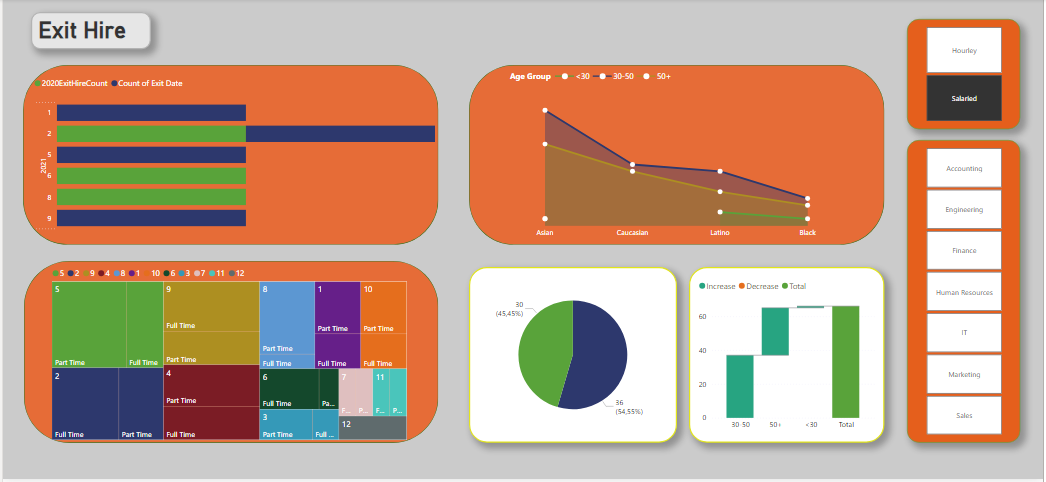

The page's visual inventory and layout, read from the dashboard file:
{"tool":"powerbi","page":{"name":"Exit Hire","canvas":[1735,800],"ordinal":2},"visuals":[{"type":"shape","box":[32.6,109.3,693,300],"z":0},{"type":"barChart","fields":{"Category":["Calendar.Year","Calendar.Month"],"Y":["TBL_Employees.2020ExitHireCount","CountNonNull(TBL_Employees.Exit Date)"]},"box":[46.5,120.9,679.1,279.1],"z":1000},{"type":"shape","box":[35.1,436.8,691.2,303.5],"z":2000},{"type":"textbox","title":"Exit Hire","box":[46.6,21.3,199.9,62.1],"z":3000},{"type":"shape","box":[776.7,109.3,693,300],"z":4000},{"type":"treemap","fields":{"Group":["Calendar.Month"],"Details":["TBL_Employees.Work Time"],"Values":["CountNonNull(TBL_Employees.Exit Date)"]},"box":[77.2,436.8,601.8,303.5],"z":5000},{"type":"waterfallChart","fields":{"Category":["TBL_Employees.Age Group"],"Y":["TBL_Employees.2020ExitHireCount"]},"box":[1144.2,446.5,325.6,293],"z":6000},{"type":"pieChart","fields":{"Category":["TBL_Employees.Gender"],"Y":["TBL_Employees.2020ExitHireCount"]},"box":[776.7,446.5,346.5,293],"z":7000},{"type":"areaChart","fields":{"Category":["TBL_Employees.Ethnicity"],"Series":["TBL_Employees.Age Group"],"Y":["CountNonNull(TBL_Employees.Exit Date)"]},"box":[840.4,108.8,564.9,300],"z":8000},{"type":"slicer","fields":{"Values":["TBL_Employees.Pay Type"]},"box":[1508.8,33.3,189.5,184.2],"z":9000},{"type":"slicer","fields":{"Values":["TBL_Employees.Department"]},"box":[1508.8,235.1,189.5,505.3],"z":10000}]}

Visuals, with their boxes in screenshot pixels (x1, y1, x2, y2), scaled from the page's 1735x800 canvas onto the 1046x482 screenshot:
shape: 20 66 437 247
barChart - Calendar.Year x Calendar.Month: 28 73 437 241
shape: 21 263 438 446
"Exit Hire" textbox: 28 13 149 50
shape: 468 66 886 247
treemap - Calendar.Month x TBL_Employees.Work Time: 47 263 409 446
waterfallChart - TBL_Employees.Age Group x TBL_Employees.2020ExitHireCount: 690 269 886 446
pieChart - TBL_Employees.Gender x TBL_Employees.2020ExitHireCount: 468 269 677 446
areaChart - TBL_Employees.Ethnicity x TBL_Employees.Age Group: 507 66 847 246
slicer - TBL_Employees.Pay Type: 910 20 1024 131
slicer - TBL_Employees.Department: 910 142 1024 446
